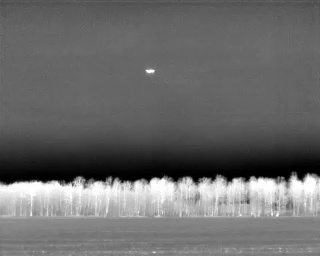DRONE: (143, 65, 158, 78)
